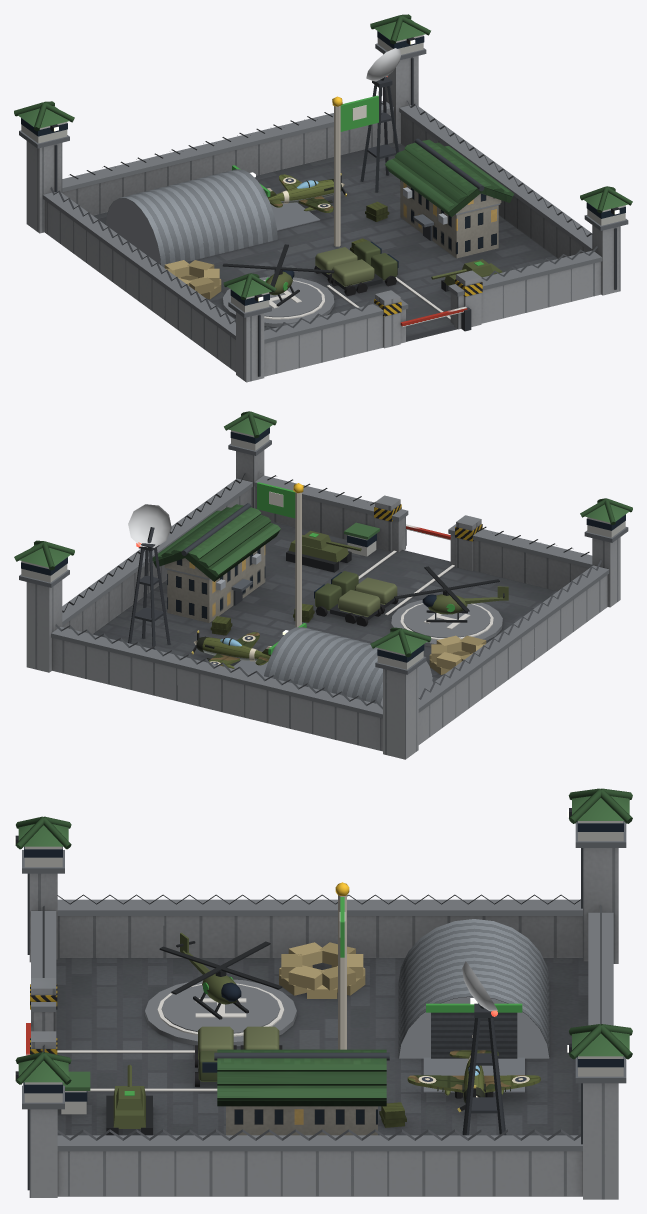
File: military_base_modern_green.glb
3 views of the same model, one above another, from view 1: azimuth 30°, elevation 25°; view 2: azimuth 150°, elevation 25°; view 3: azimuth 270°, elevation 25° (orthographic). The views are drawn at different scales.
Parts seen in each view (by area): view 1: military_base_modern_green; view 2: military_base_modern_green; view 3: military_base_modern_green.
Part boxes in pixels (left/top/right/bottom): military_base_modern_green: left=14, top=14, right=632, bottom=382; military_base_modern_green: left=14, top=411, right=632, bottom=759; military_base_modern_green: left=14, top=788, right=632, bottom=1199.
Bounding box in the file's own units: 1.23 × 0.456 × 1.22.
Materials: 4 (1 with a texture image).
